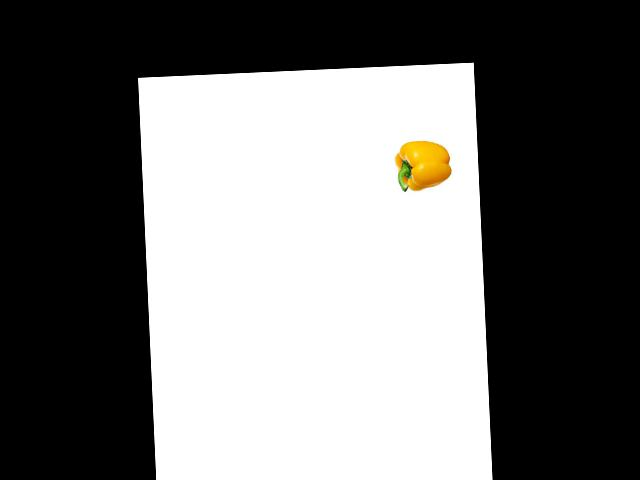bell_pepper: (389, 135, 454, 197)
